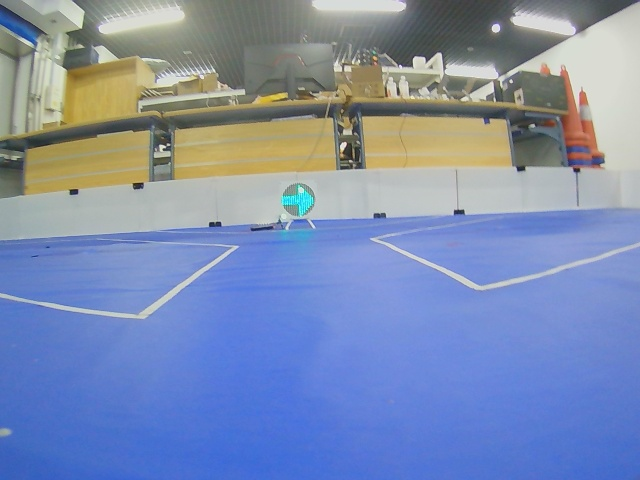right_green: (281, 183, 315, 217)
